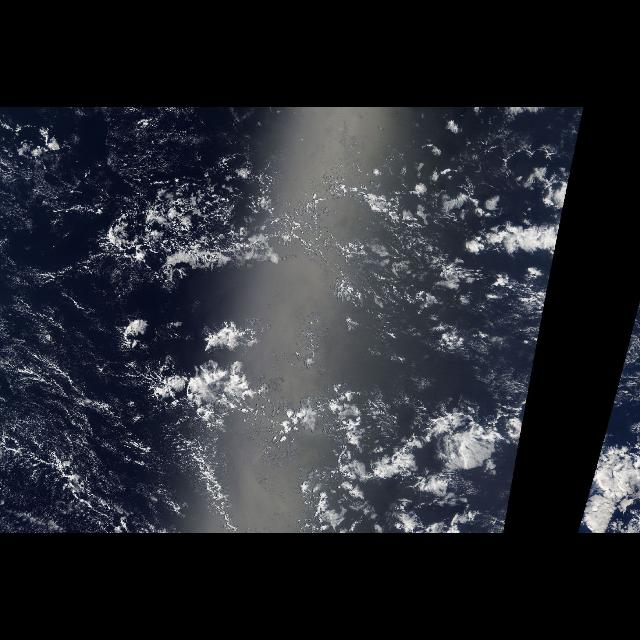Fish: (78, 329, 252, 533)
Flower: (318, 379, 518, 528), (114, 304, 270, 426)
Gravel: (78, 164, 300, 280)
Sugar: (0, 245, 164, 533)
